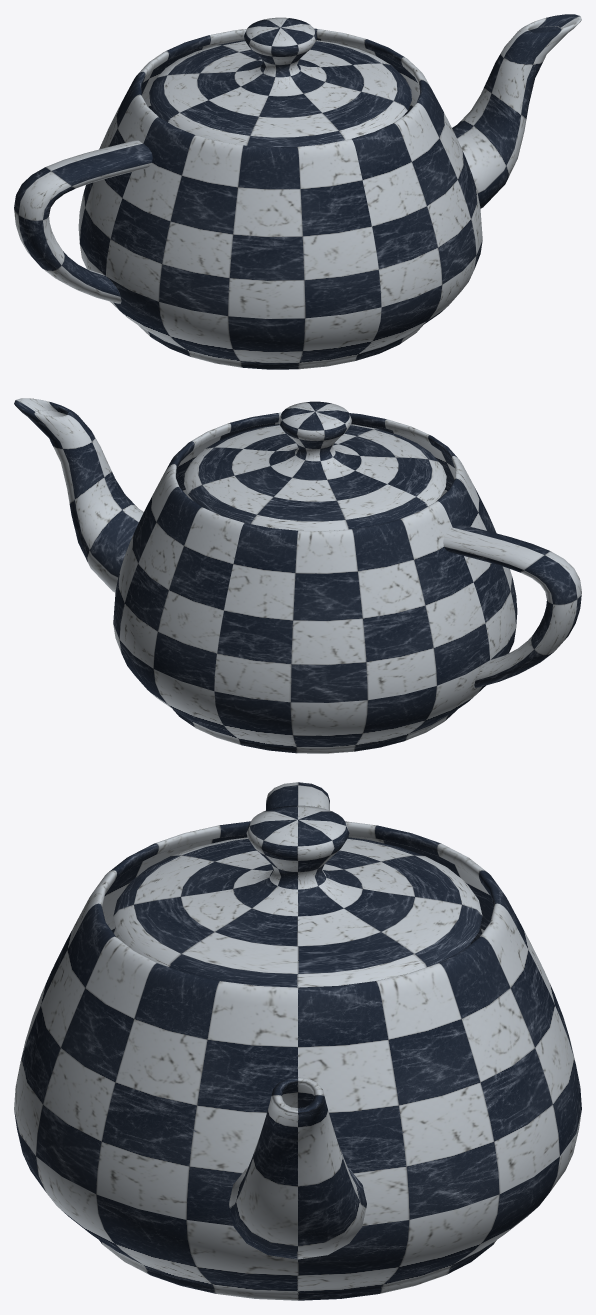
File: teapot.obj
The picture shows the model from 3 angles, top to bottom: view 1: azimuth 30°, elevation 25°; view 2: azimuth 150°, elevation 25°; view 3: azimuth 270°, elevation 25°; orthographic projection. The views are drawn at different scales.
Visible parts, largest first — view 1: Teapot001; view 2: Teapot001; view 3: Teapot001.
Part boxes in pixels (box(x1,y1,x2,y2)): Teapot001: box(14, 14, 581, 369); Teapot001: box(14, 398, 581, 753); Teapot001: box(14, 782, 581, 1300).
Size of the model in its own units: 3.22 by 1.58 by 2.
